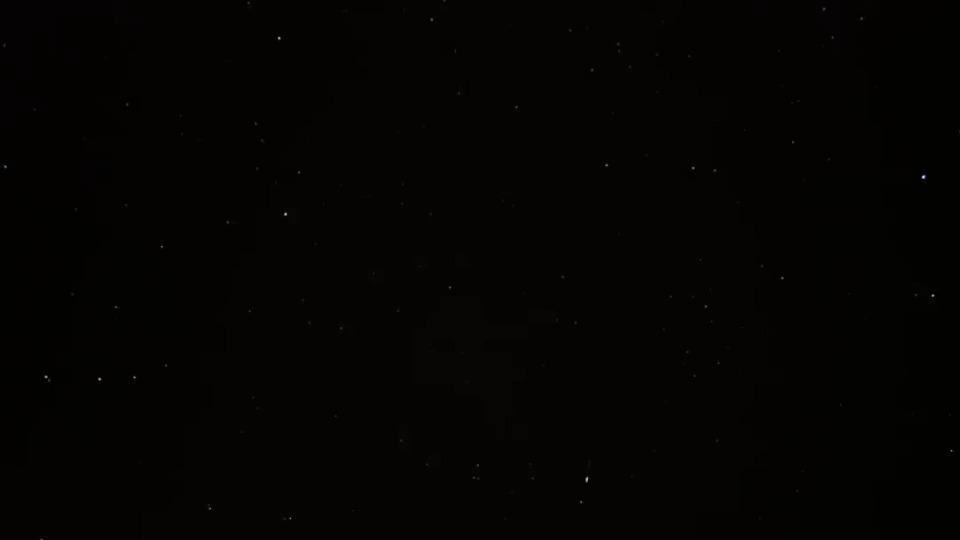meteorite: (560, 453, 615, 487)
